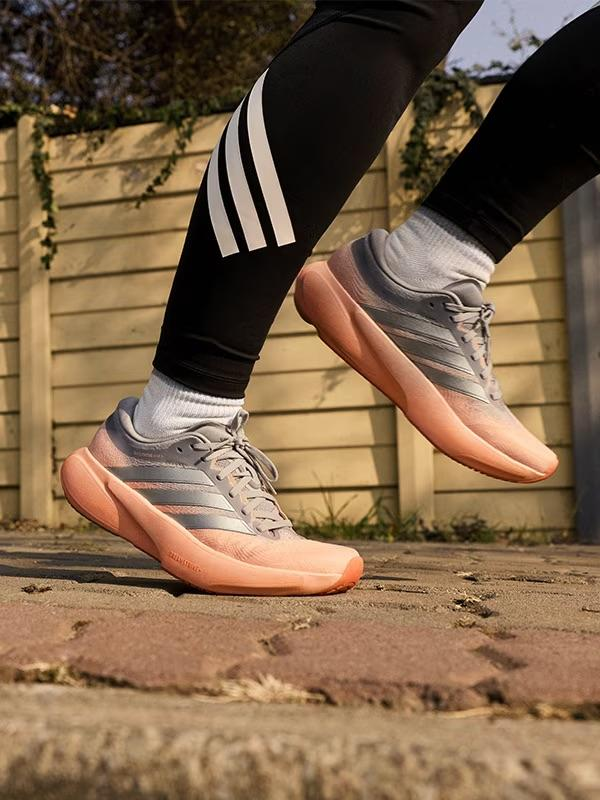adidas logo: (356, 294, 503, 416), (100, 457, 261, 546)
